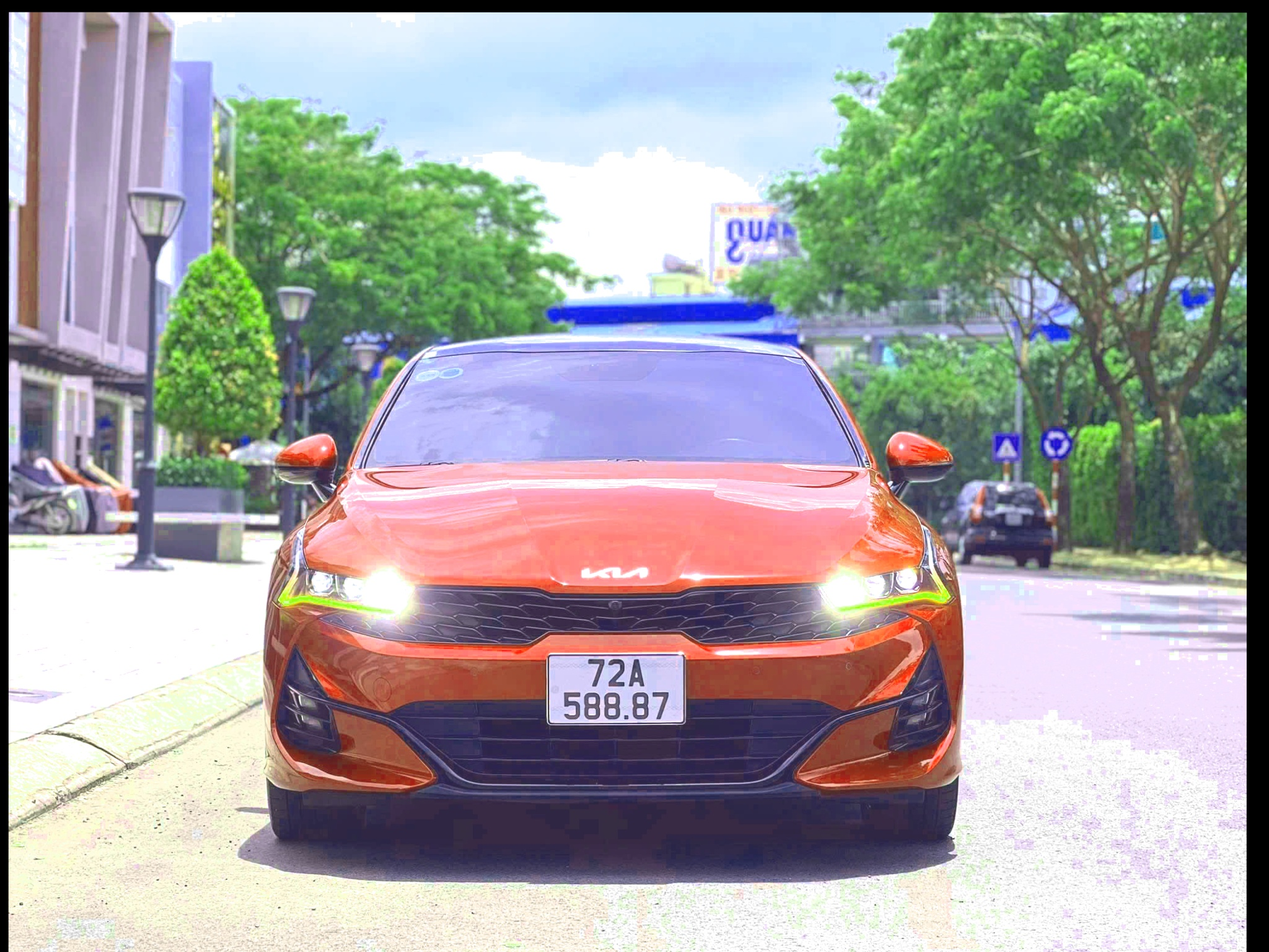Bien-so: (531, 635, 677, 732)
